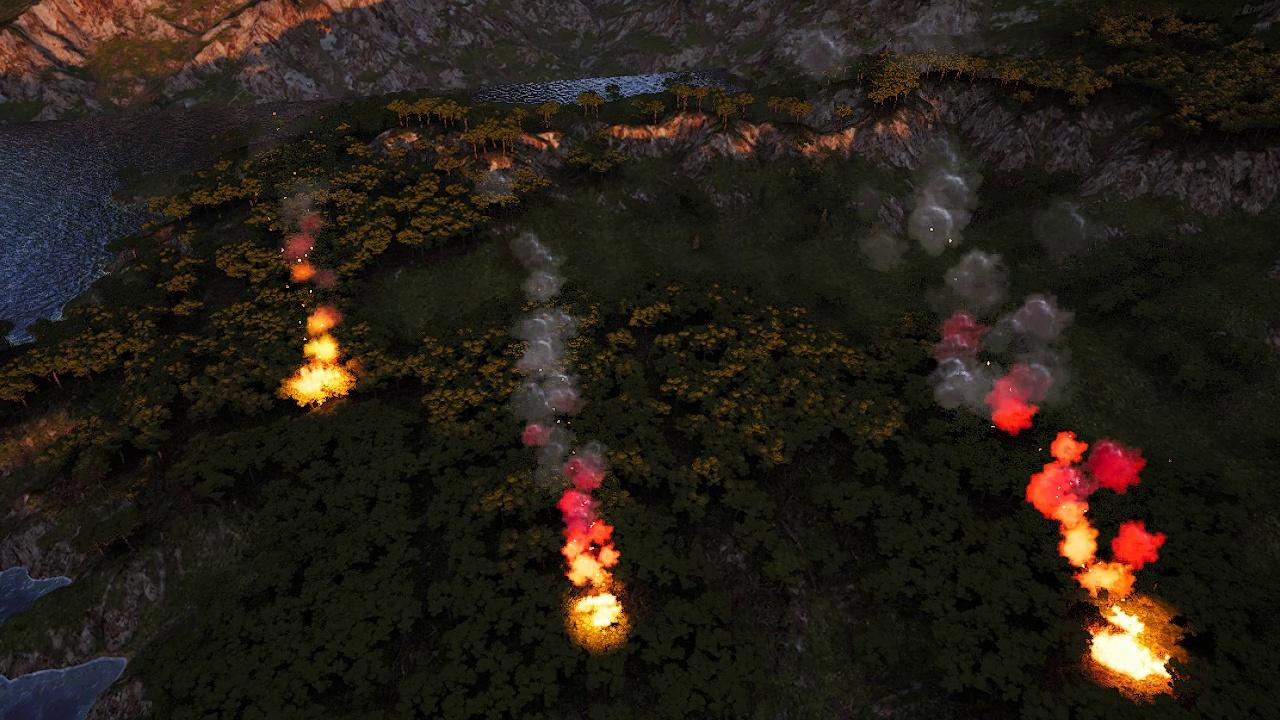fire: (1026, 438, 1171, 603), (554, 495, 626, 644), (1088, 607, 1173, 690), (290, 332, 354, 404), (570, 590, 623, 638)
smoke: (861, 138, 1175, 602), (511, 233, 646, 591), (278, 182, 340, 332)
